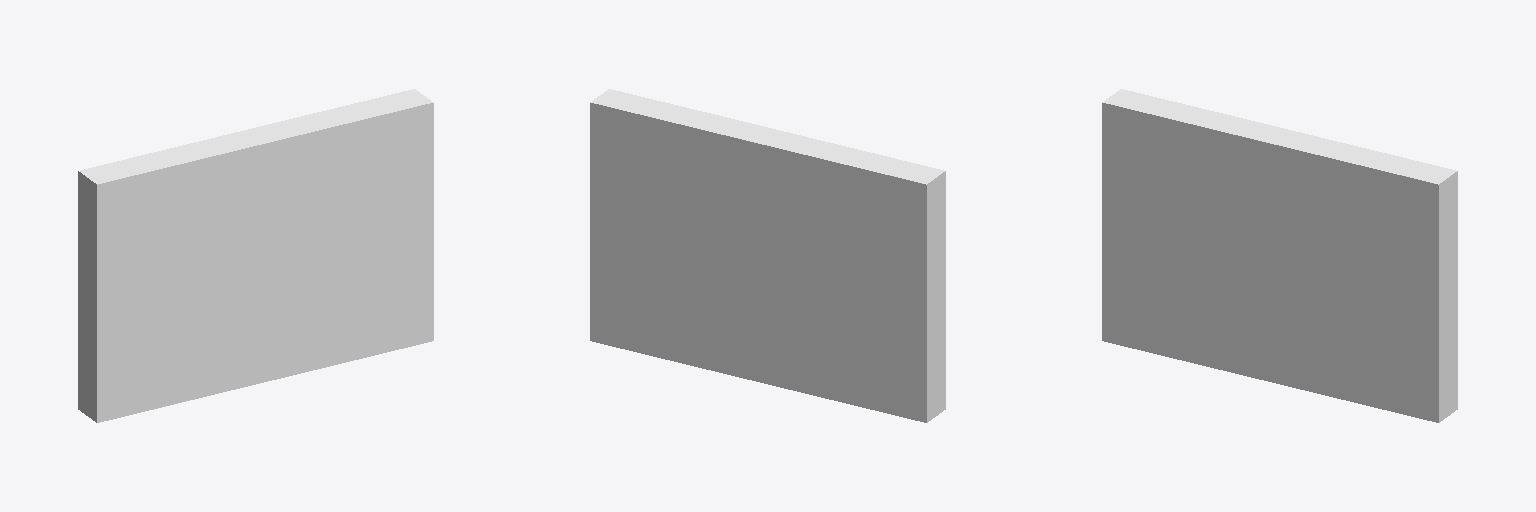
The model's file is Easy.obj.
3 views of the same model, side by side, from view 1: azimuth 30°, elevation 25°; view 2: azimuth 150°, elevation 25°; view 3: azimuth 330°, elevation 25° (orthographic).
Visible parts, largest first — view 1: object 1; view 2: object 1; view 3: object 1.
Boxes of the visible parts, <box> form: object 1: <box>78,89,433,422</box>; object 1: <box>590,89,945,422</box>; object 1: <box>1102,89,1457,422</box>.
Bounding box in the file's own units: 3.1 × 2.1 × 0.3.